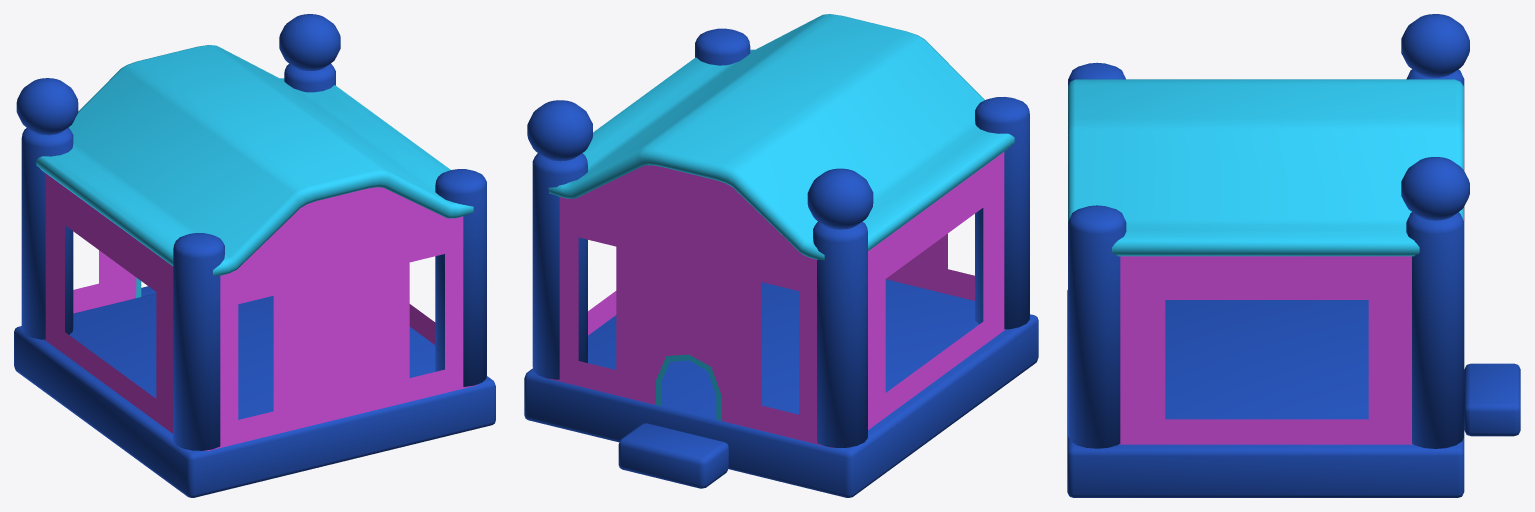
The model's file is bounce_house.glb.
The picture shows the model from 3 angles, left to right: view 1: azimuth 30°, elevation 25°; view 2: azimuth 150°, elevation 25°; view 3: azimuth 270°, elevation 25°; orthographic projection. The views are drawn at different scales.
Visible parts, largest first — view 1: Object_17, Object_16, Object_18; view 2: Object_17, Object_16, Object_18; view 3: Object_17, Object_18, Object_16.
Part boxes in pixels (box(x1,y1,x2,y2)): Object_17: box(14, 14, 495, 497); Object_16: box(44, 173, 476, 451); Object_18: box(36, 45, 473, 298); Object_17: box(524, 28, 1038, 497); Object_16: box(544, 152, 1005, 447); Object_18: box(548, 14, 1014, 420); Object_17: box(1067, 14, 1520, 497); Object_18: box(1068, 79, 1463, 256); Object_16: box(1119, 256, 1412, 444).
Size of the model in its own units: 10.78 by 9.57 by 12.03.
